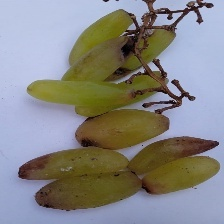grapes: (34, 27, 223, 169)
